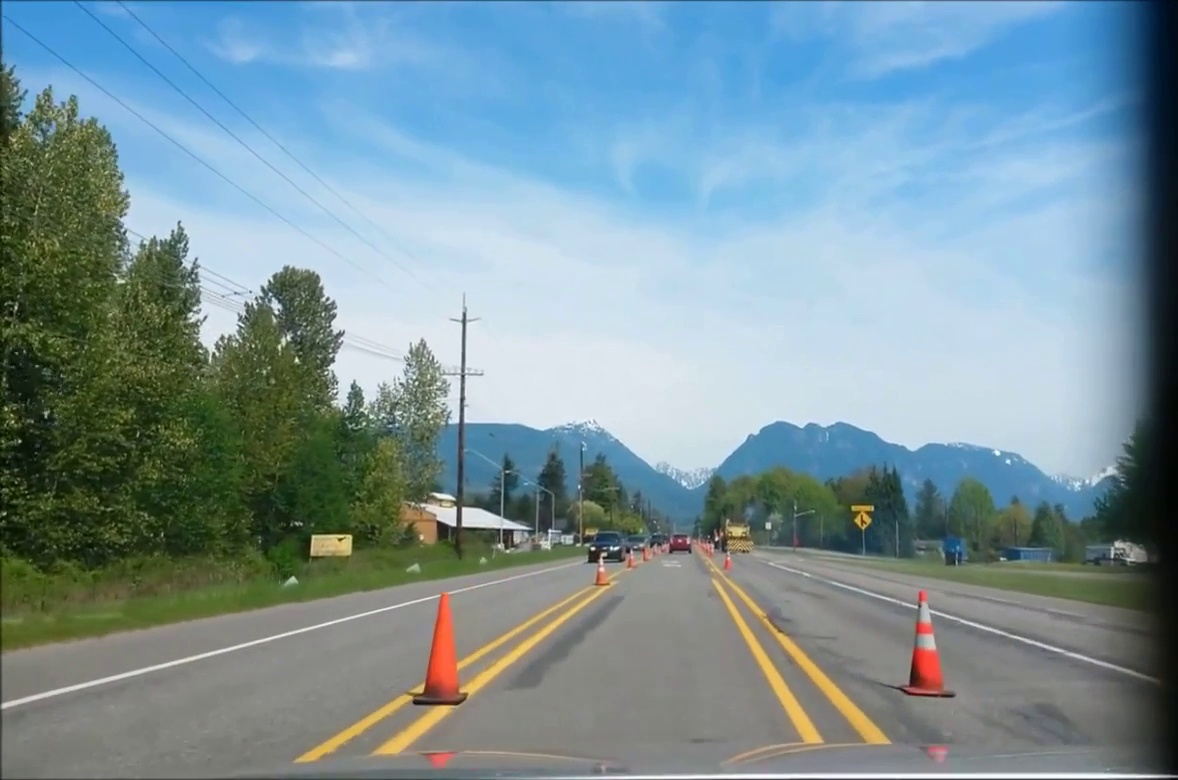Cone: (413, 590, 466, 707), (902, 587, 951, 700), (593, 549, 613, 587)
